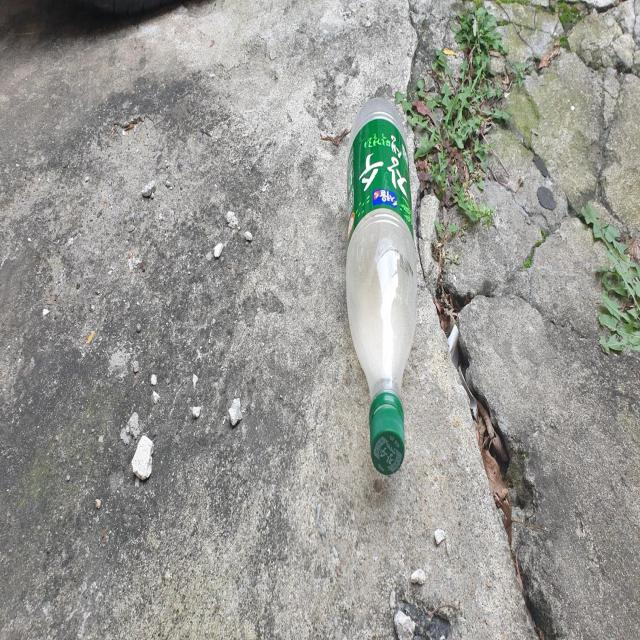plastic: (346, 96, 418, 474)
